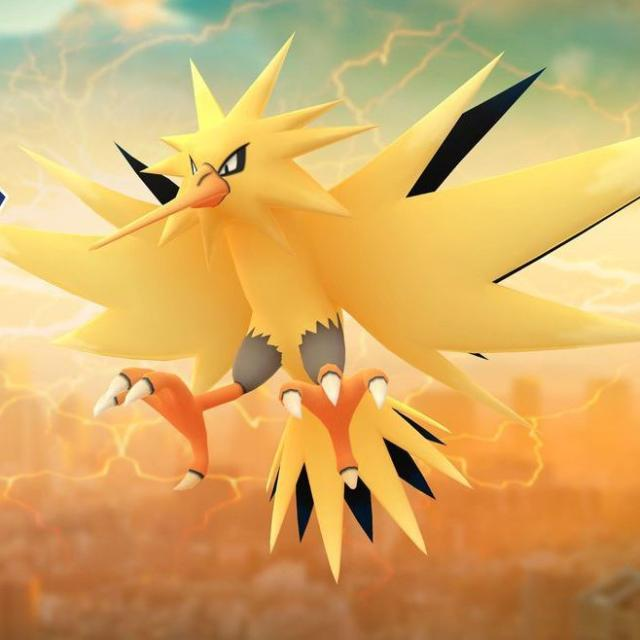Zapdos: (101, 46, 491, 550)
